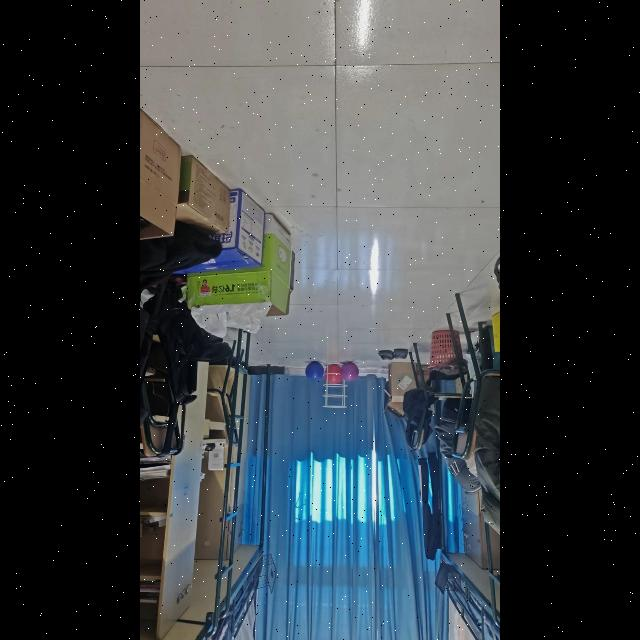B: (306, 362, 324, 382)
P: (342, 362, 356, 384)
R: (324, 366, 344, 384)
S: (324, 366, 350, 409)
